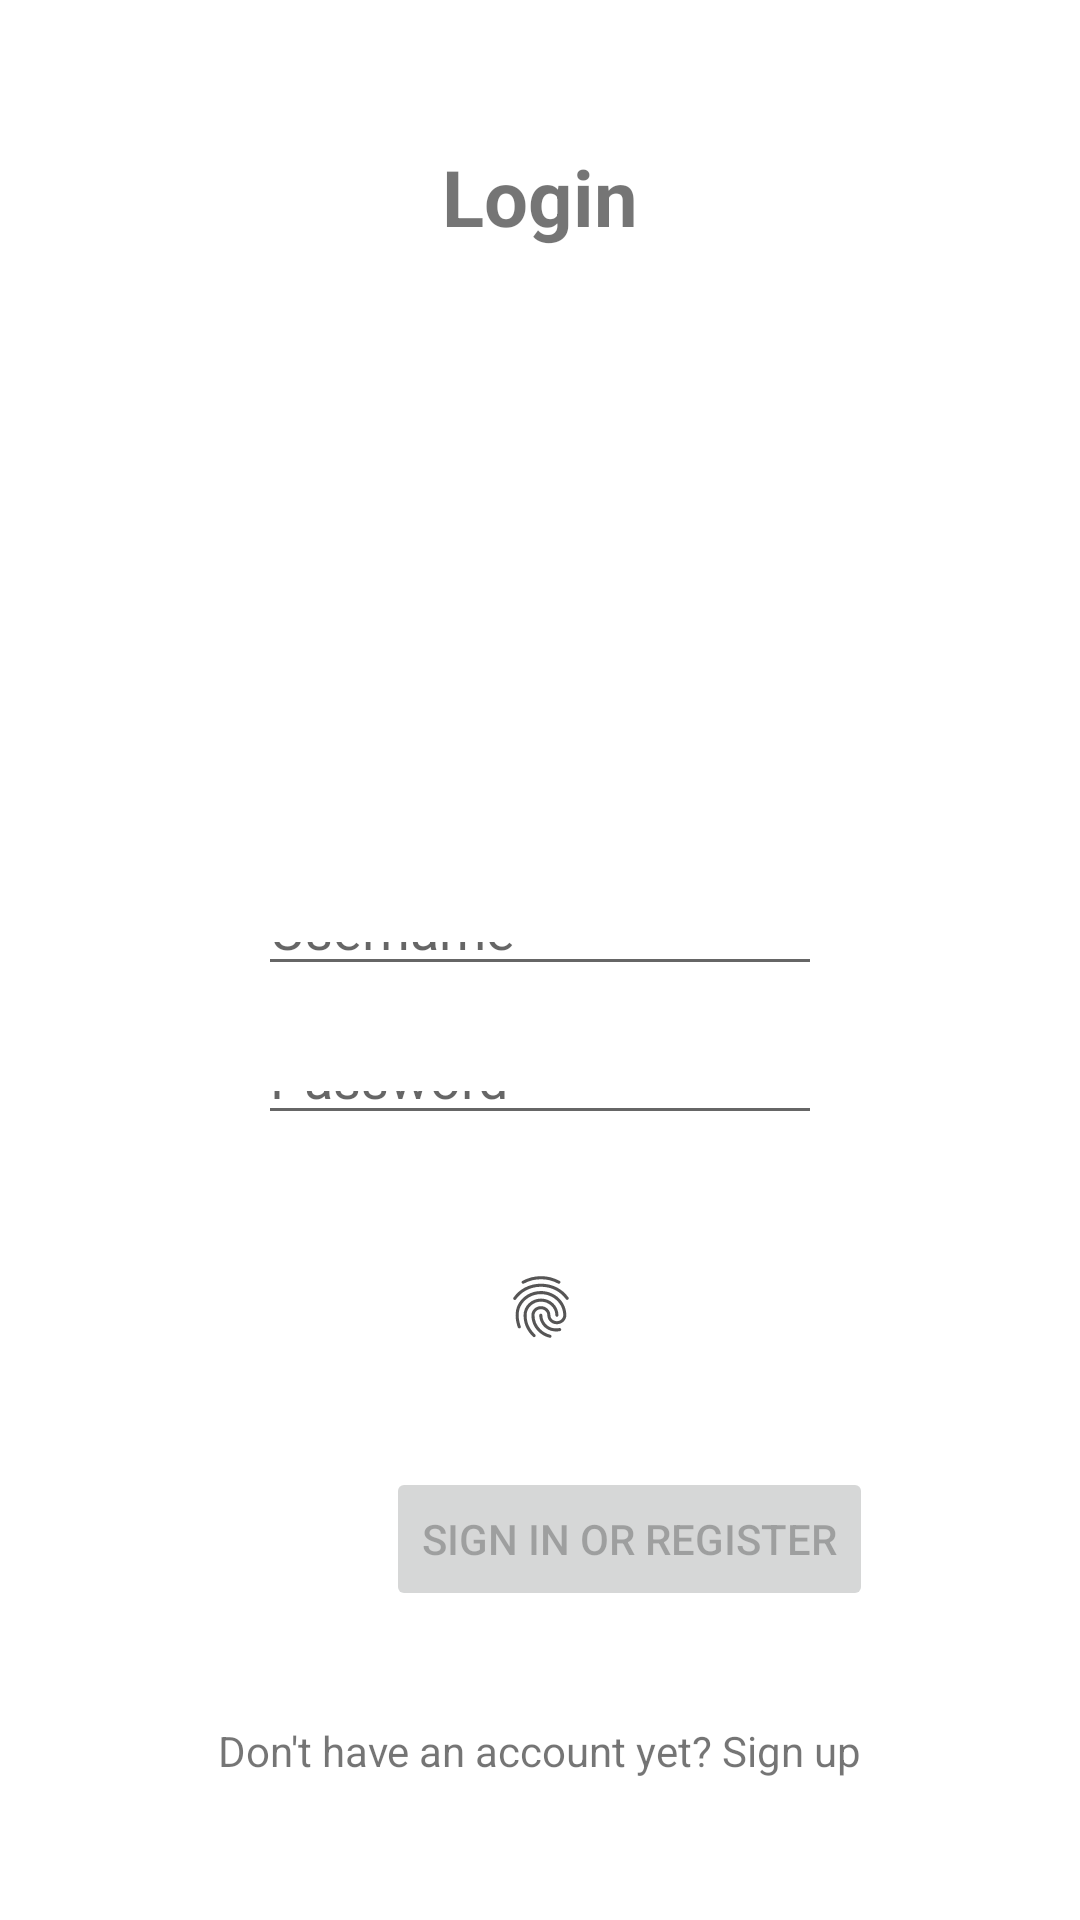

Where icons sit on this 1080*1920 app screen, as (x1, y1, x2, y2):
fingerprint: (513, 1276, 569, 1338)
